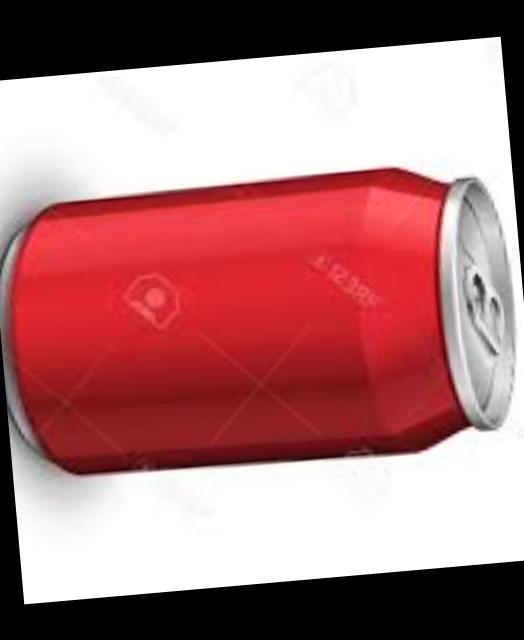metal: (0, 164, 517, 469)
